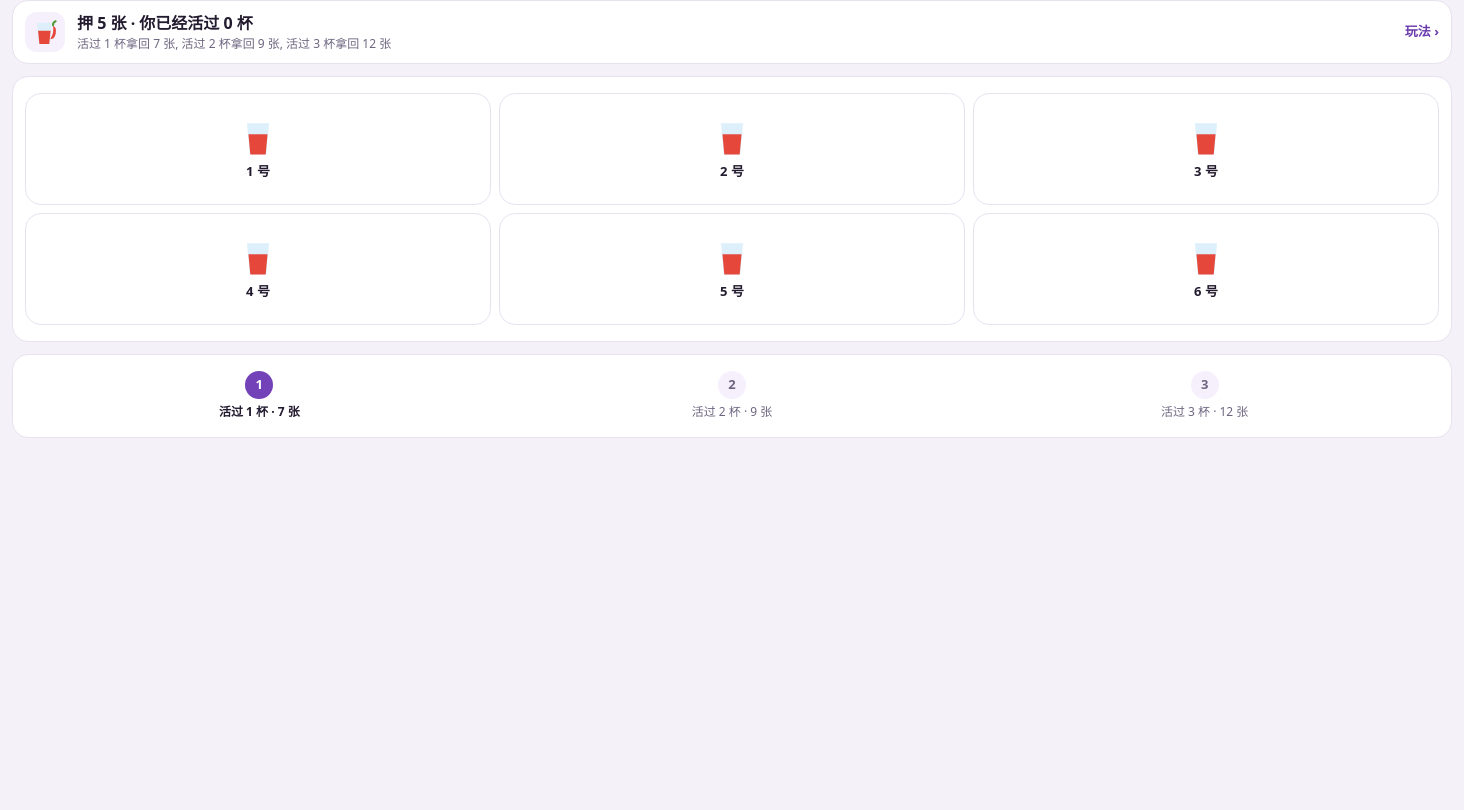
Test: DevilPanel › 赢：亮出特辣酒，提示赢得的礼券；可以再来一局
Click the button with test id "devil-cup-0": (258, 149) x1=25 y1=93 x2=491 y2=205
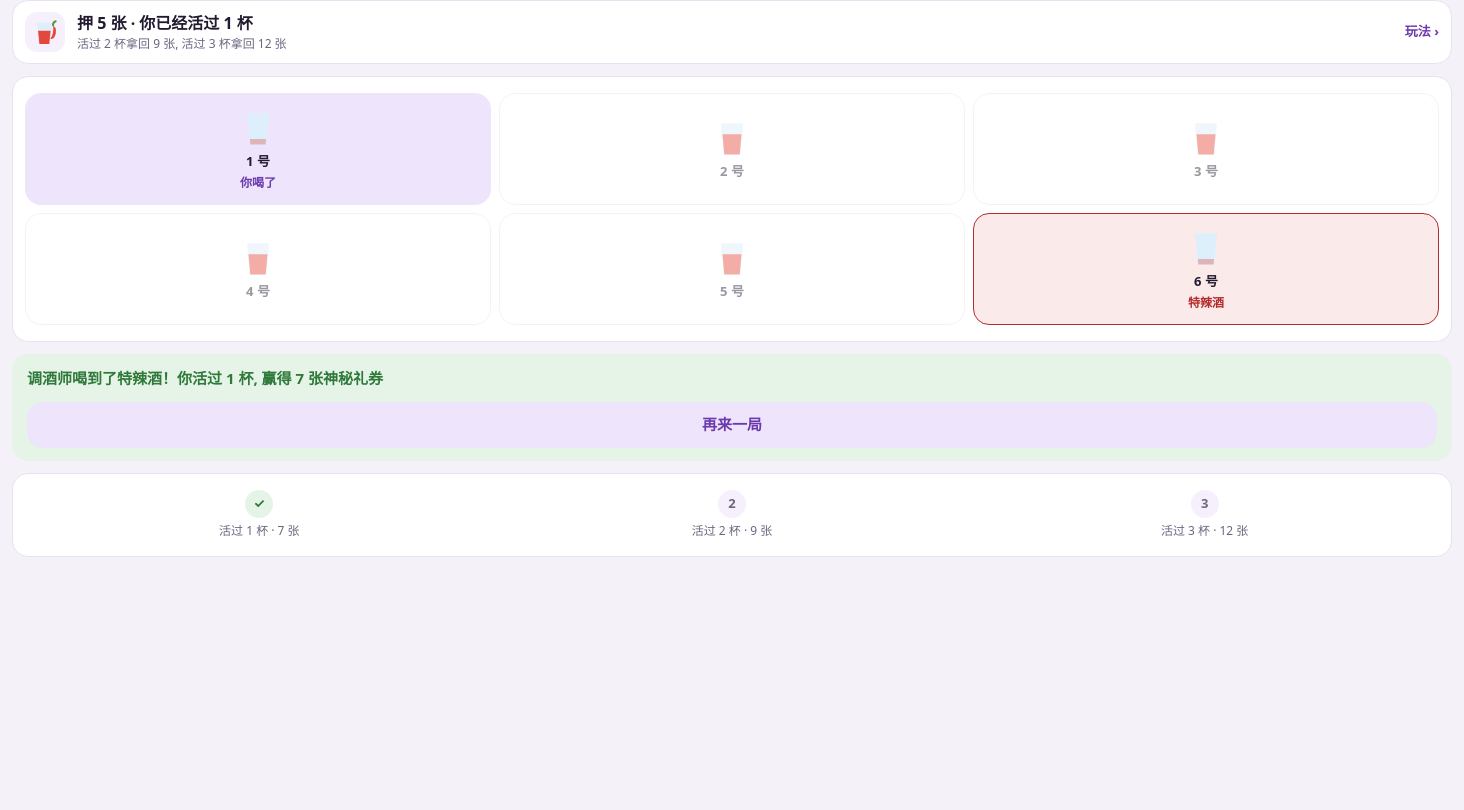
Expected: the text "调酒师喝到了特辣酒！你活过 1 杯, 赢得 7 张神秘礼券" is shown, x1=27 y1=368 x2=383 y2=388
Click the button with test id "devil-again": (732, 424) x1=27 y1=402 x2=1437 y2=448
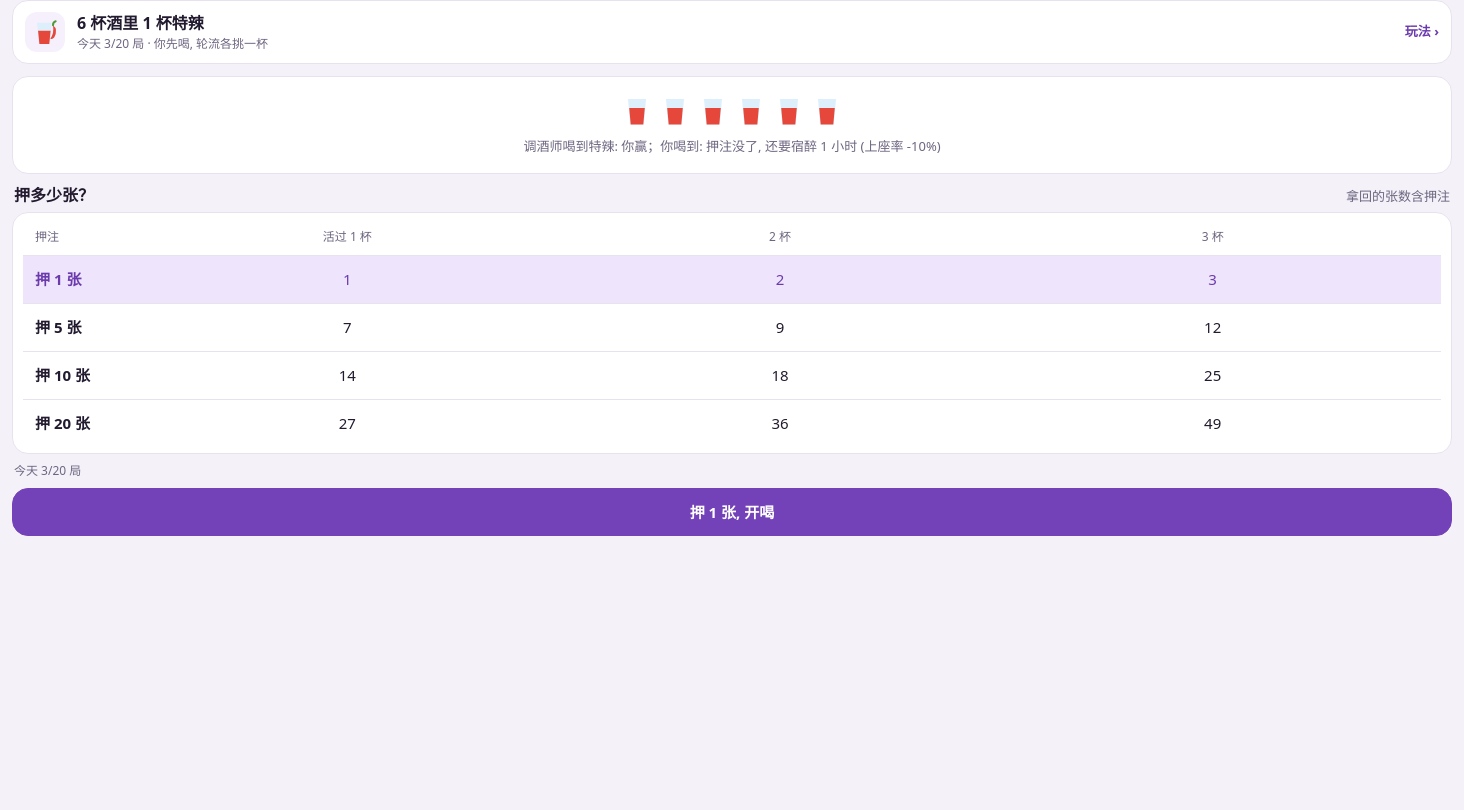
Expected: the radio button with test id "devil-stake-1" is shown, x1=23 y1=255 x2=1441 y2=303
